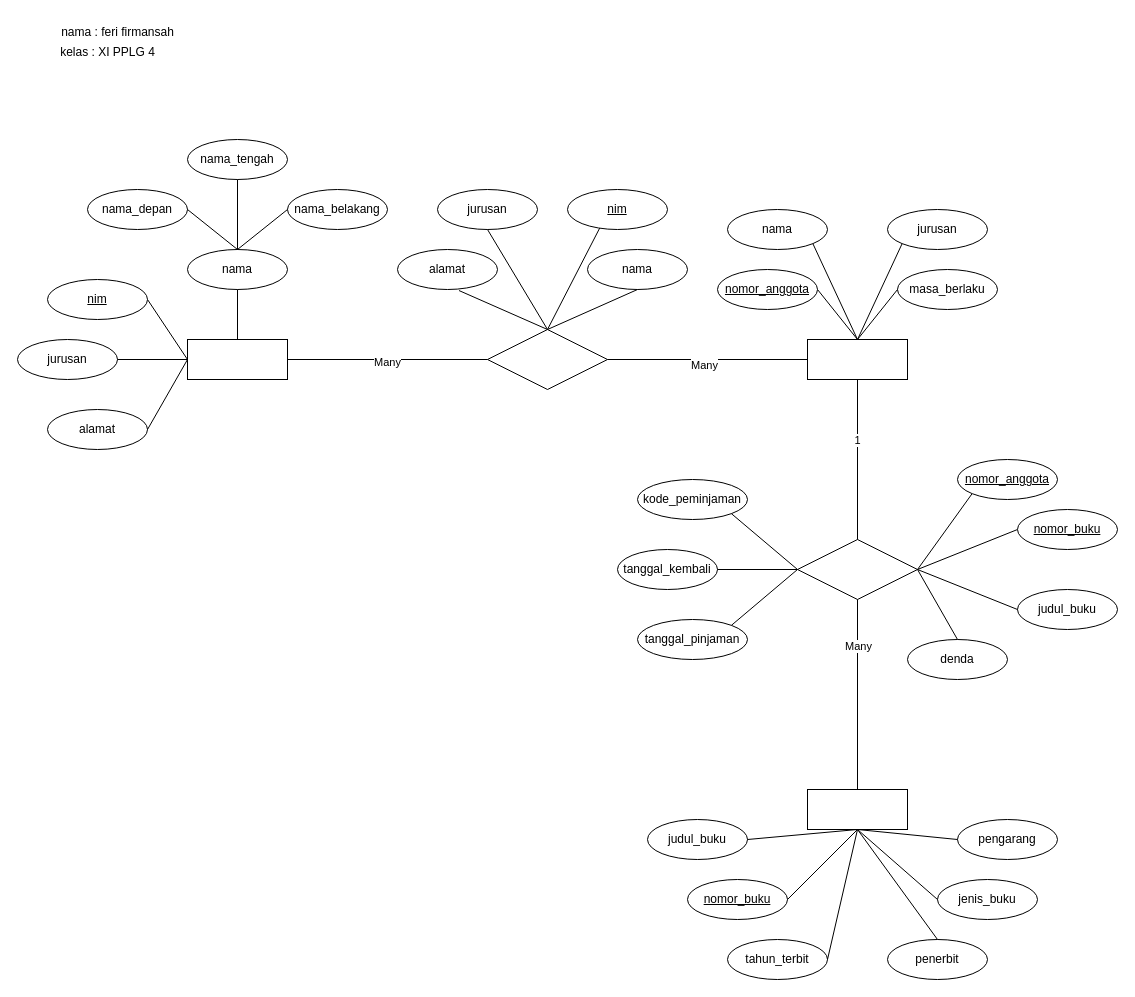
The diagram is 1135 pixels wide and 997 high, and some of its shapes have lost their labels. The shapes that lost their labels are listed below. From the top down, each one's centre as x and y in pixels, then its label:
At (x=237, y=359): "Mahasiswa".
At (x=547, y=359): "Mendaftar".
At (x=857, y=359): "Anggota Perpustakaan".
At (x=857, y=569): "Meminjam".
At (x=857, y=809): "Buku".
